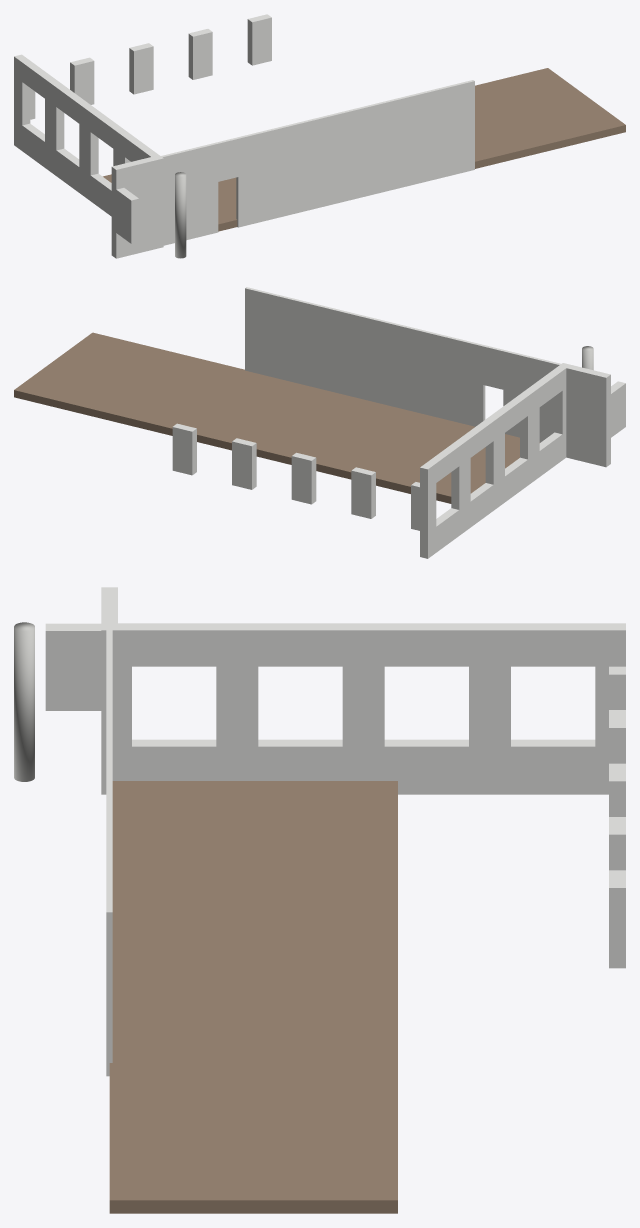
The model's file is SM_Bygg_Helgasetr_P4_V_N.fbx.
The picture shows the model from 3 angles, top to bottom: view 1: azimuth 30°, elevation 25°; view 2: azimuth 150°, elevation 25°; view 3: azimuth 270°, elevation 25°; orthographic projection. The views are drawn at different scales.
Parts seen in each view (by area): view 1: SM_Bygg_Helgasetr_P4_V_N; view 2: SM_Bygg_Helgasetr_P4_V_N; view 3: SM_Bygg_Helgasetr_P4_V_N.
Part boxes in pixels (x1,y1,x2,y2): SM_Bygg_Helgasetr_P4_V_N: (14,14,625,258); SM_Bygg_Helgasetr_P4_V_N: (14,287,625,558); SM_Bygg_Helgasetr_P4_V_N: (14,587,625,1213).
Size of the model in its own units: 14.53 by 25.95 by 4.3.
